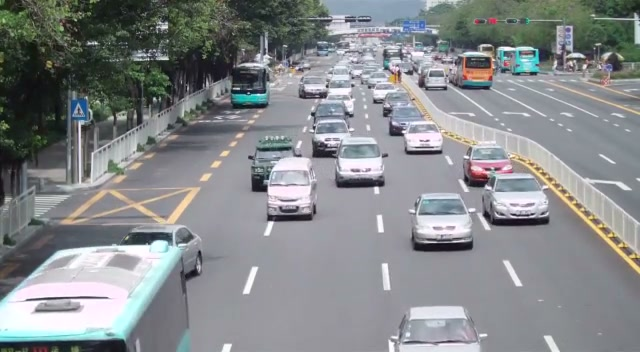bus: (1, 241, 191, 352), (230, 62, 269, 108), (450, 51, 495, 88)
car: (118, 225, 205, 279), (388, 305, 485, 352), (408, 192, 475, 251), (480, 171, 551, 226), (265, 157, 319, 221), (334, 135, 387, 188), (462, 144, 514, 187), (311, 119, 351, 157), (402, 121, 444, 155), (388, 105, 425, 136), (382, 91, 412, 117), (422, 68, 449, 91)
truck: (510, 46, 539, 75)
